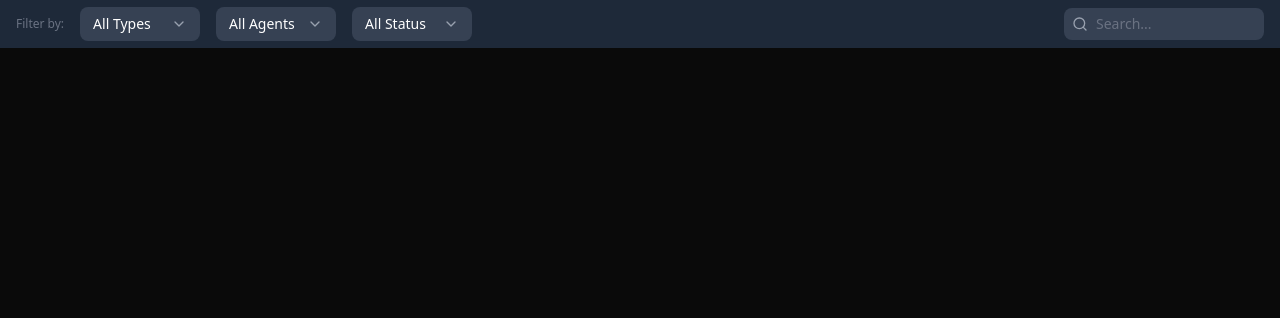
Test: FilterBar › Type dropdown › should display all type filter options
The width and height of the screenshot is (1280, 318).
Click the button with test id "type-filter-dropdown".
click(140, 24)  # box [80, 7, 200, 41]
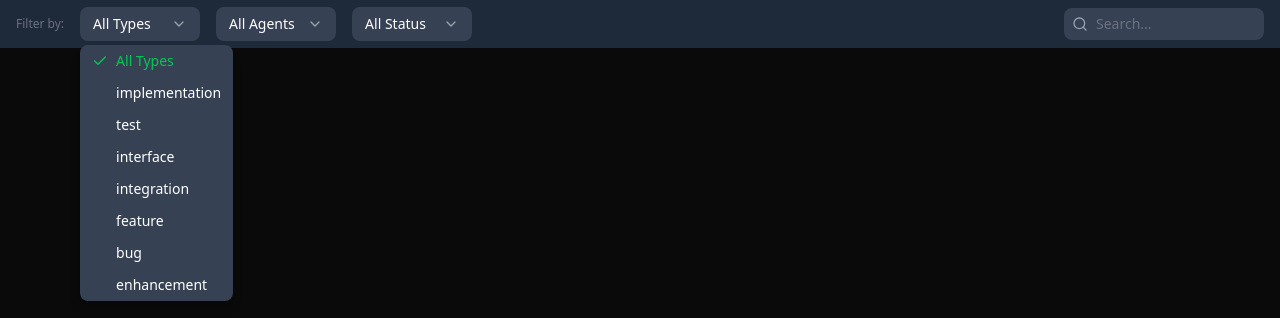
Expected: the option "All Types" is shown, [92, 51, 174, 70]
Expected: the option "implementation" is shown, [116, 83, 221, 102]
Expected: the option "test" is shown, [116, 115, 141, 134]
